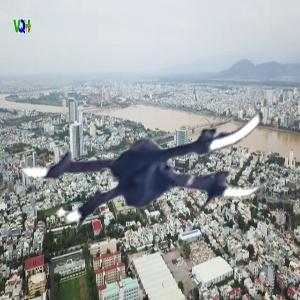drone: (27, 28, 270, 271)
